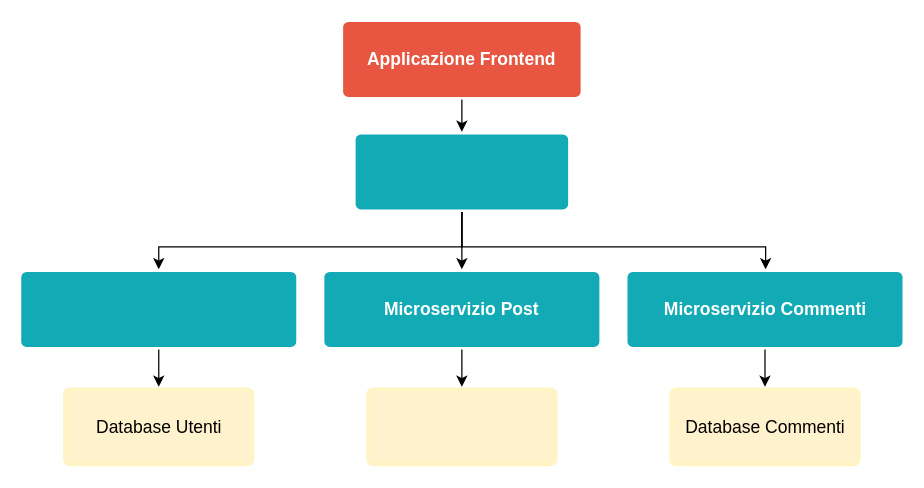
Some shapes in this 924 by 488 pixel diagram are drawn without their labels. Each missing label, with the centre of its shape:
Database Post: pixel 461 426
Gateway Microservizi: pixel 461 171
Microservizio Utenti: pixel 158 308
